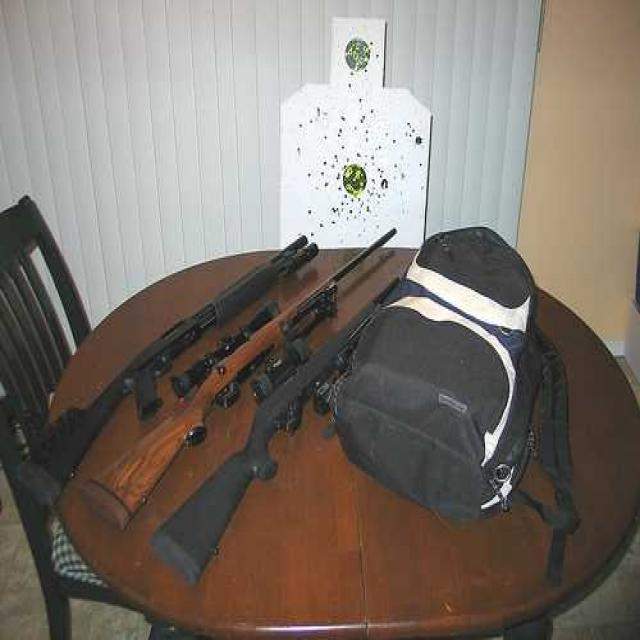weapon: (80, 213, 427, 524), (0, 212, 337, 508), (148, 266, 411, 606)
